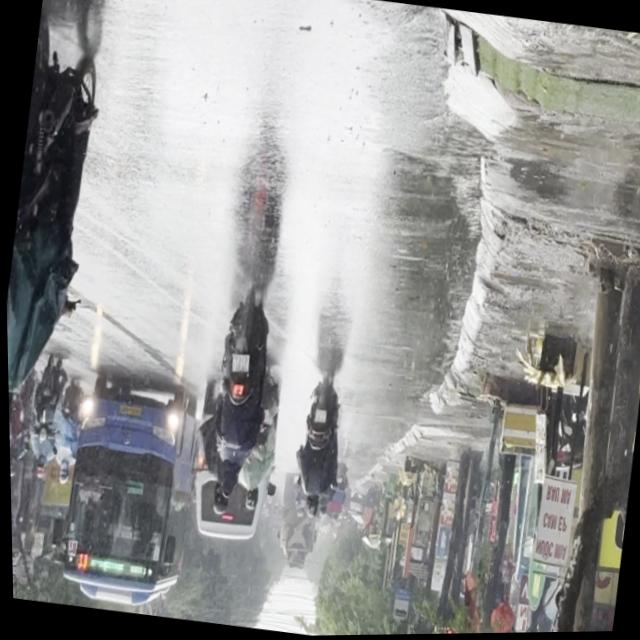helmet: (213, 459, 238, 500), (206, 486, 226, 518), (7, 391, 15, 467)
licenseplate: (0, 0, 129, 486), (191, 287, 279, 523)
nohelmet: (228, 354, 246, 374)
